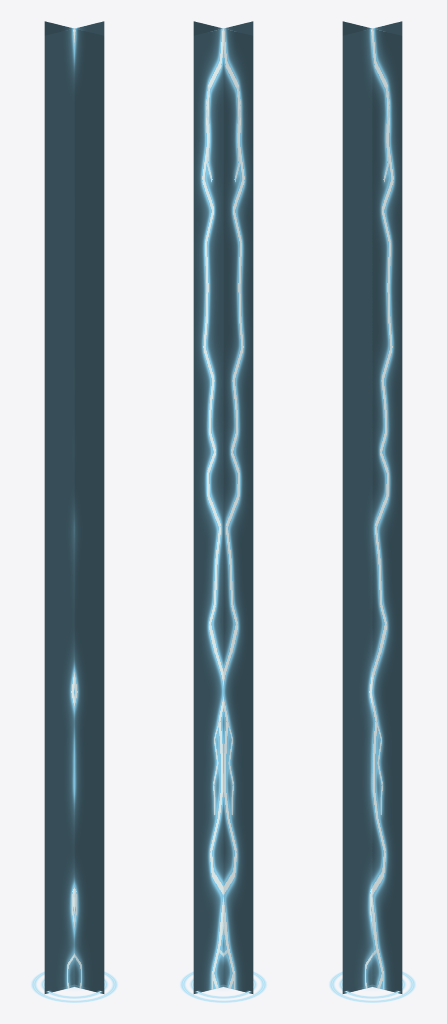
File: fx_sigil_t2.glb
3 renders of one model, left to right at view 1: azimuth 30°, elevation 25°; view 2: azimuth 210°, elevation 25°; view 3: azimuth 330°, elevation 25°, orthographic.
Parts seen in each view (by area): view 1: fx_bolt, fx_impact; view 2: fx_bolt, fx_impact; view 3: fx_bolt, fx_impact.
Boxes of the visible parts, x1,y1,x2,y2 form: fx_bolt: (44,21,104,993); fx_impact: (31,972,117,1002); fx_bolt: (193,21,253,993); fx_impact: (180,972,266,1002); fx_bolt: (342,21,402,993); fx_impact: (329,972,415,1002).
Size of the model in its own units: 1 by 12 by 1.
2 materials, 2 textured.
